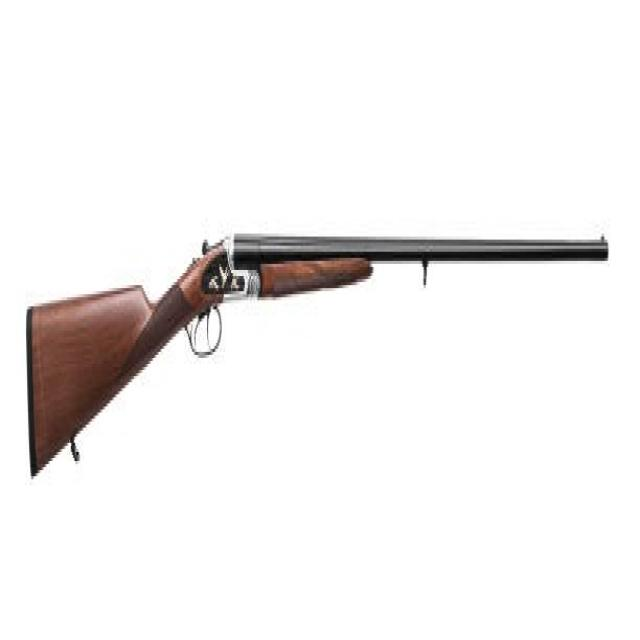rifle: (17, 209, 613, 491)
